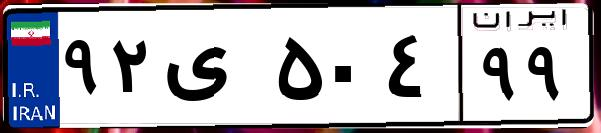0: (330, 28, 385, 110)
2: (110, 28, 158, 98)
4: (385, 28, 445, 110)
5: (270, 28, 330, 110)
9: (57, 26, 110, 100), (475, 38, 525, 113), (525, 38, 570, 115)
ی: (158, 20, 270, 120)
